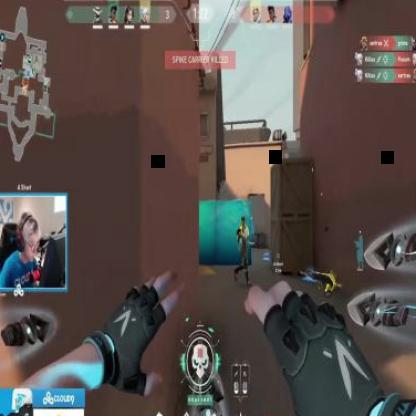enemy: (233, 214, 250, 288)
enemy_head: (242, 216, 245, 228)
